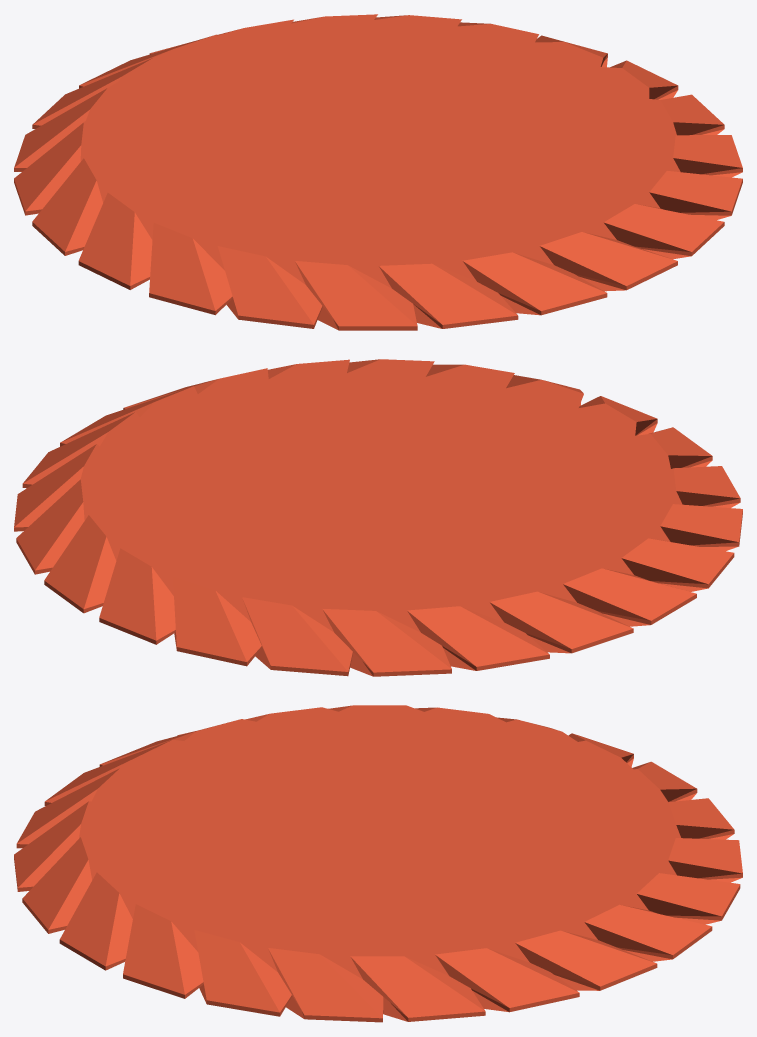
The model's file is circle_saw.fbx.
The picture shows the model from 3 angles, top to bottom: view 1: azimuth 30°, elevation 25°; view 2: azimuth 150°, elevation 25°; view 3: azimuth 270°, elevation 25°; orthographic projection.
Visible parts, largest first — view 1: circle_saw; view 2: circle_saw; view 3: circle_saw.
Part boxes in pixels (box(x1,y1,x2,y2)): circle_saw: box(14, 14, 742, 330); circle_saw: box(14, 359, 742, 676); circle_saw: box(14, 705, 742, 1022).
Size of the model in its own units: 1.99 by 0.144 by 1.99.
